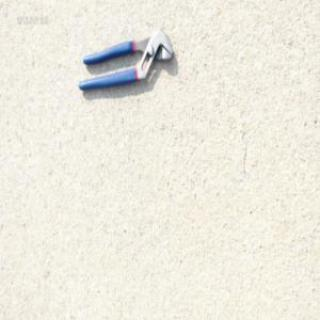Pliertrack_idkeyframe: (76, 26, 174, 92)
